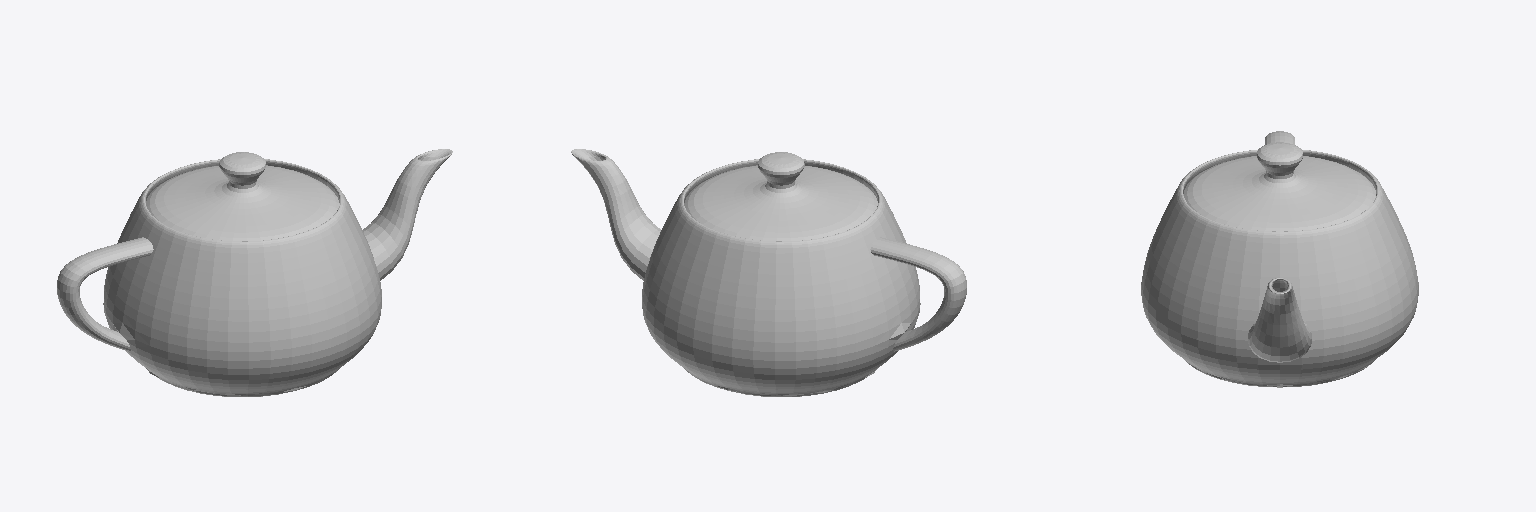
File: teapot.obj
3 views of the same model, side by side, from view 1: azimuth 30°, elevation 25°; view 2: azimuth 150°, elevation 25°; view 3: azimuth 270°, elevation 25° (orthographic).
Visible parts, largest first — view 1: Teapot; view 2: Teapot; view 3: Teapot.
Part boxes in pixels (x1,y1,x2,y2): Teapot: (57, 149, 452, 396); Teapot: (571, 149, 966, 396); Teapot: (1141, 131, 1418, 387).
Size of the model in its own units: 6.38 by 3.14 by 3.91.